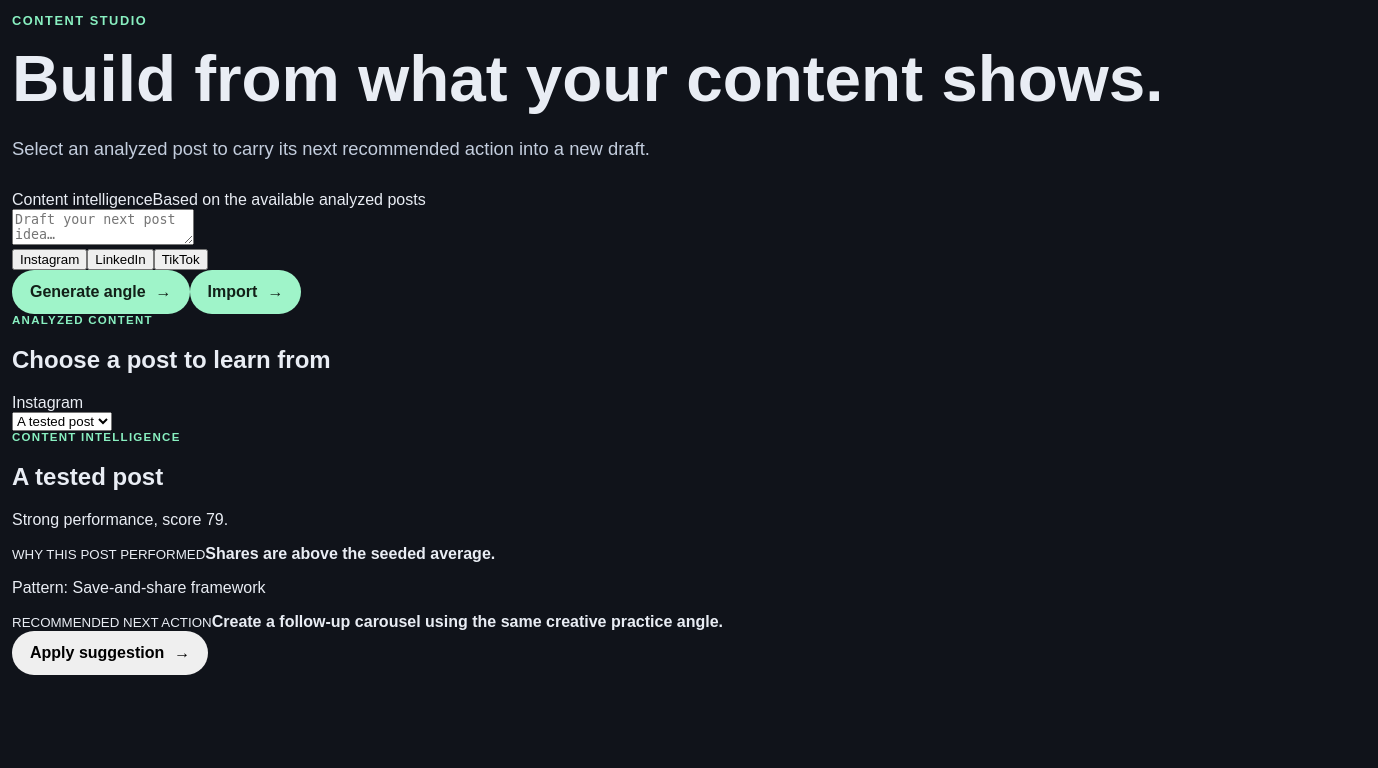
ContentPage › renders an API-backed insight and applies its recommendation
Expected: the heading "A tested post" is shown, x1=12 y1=463 x2=163 y2=490
Click the button "Generate angle →".
click(101, 292)  # box x1=12 y1=270 x2=190 y2=314
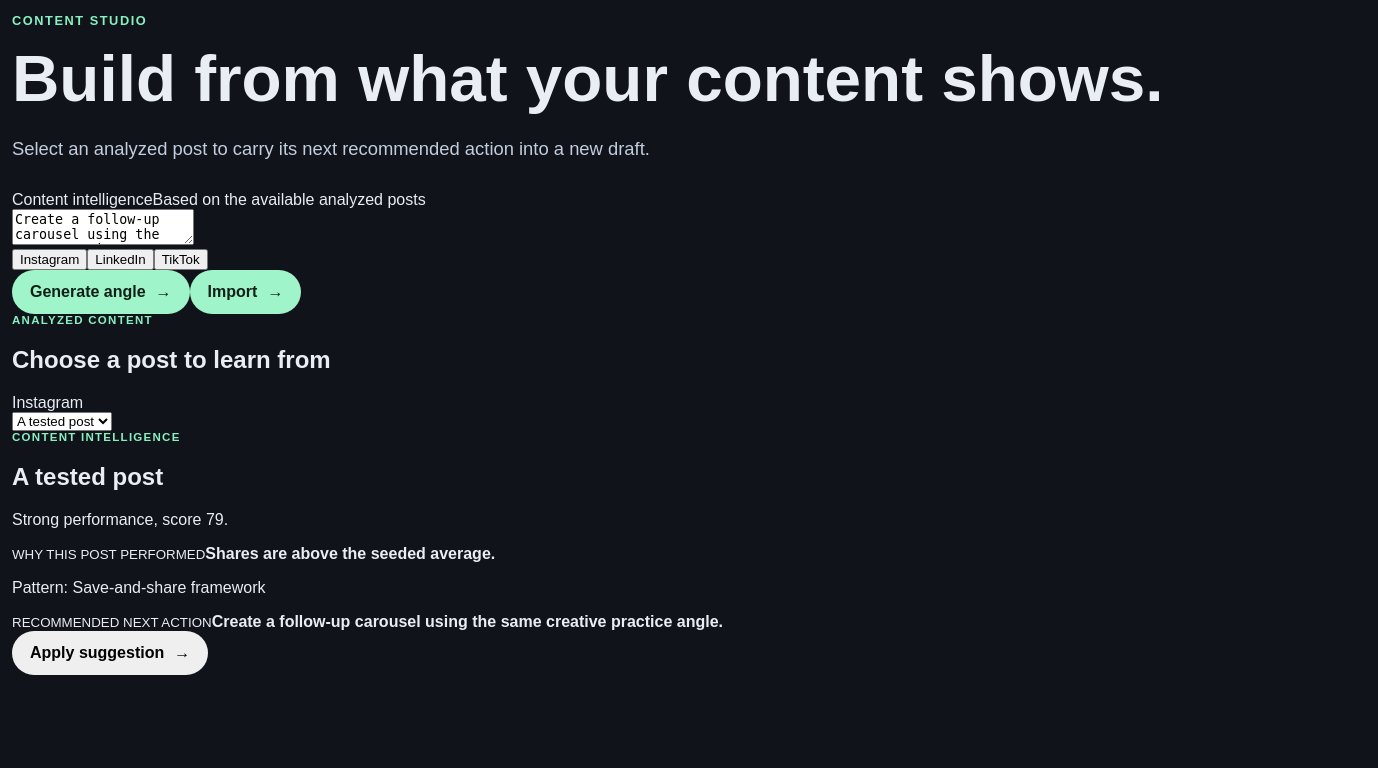
Expected: the text box named "Content idea" holds "Create a follow-up carousel using the same creative practice angle.", x1=12 y1=209 x2=194 y2=245
